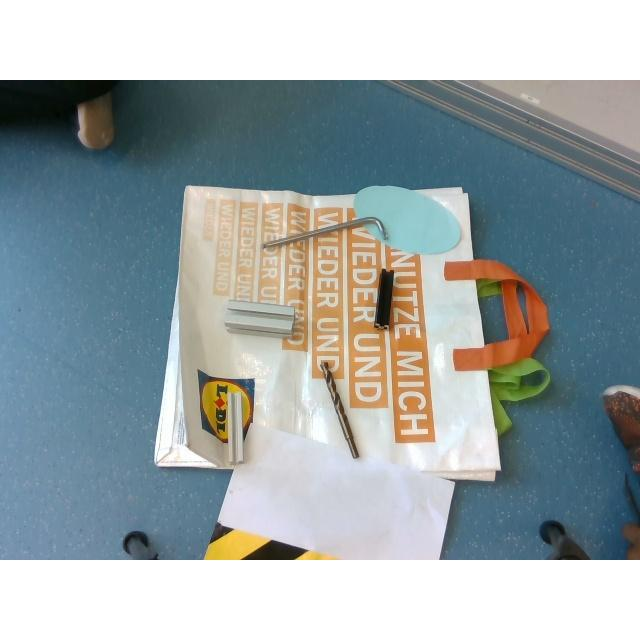AllenKey: (260, 216, 388, 248)
Drill: (320, 362, 358, 458)
F20_20_B: (374, 268, 394, 328)
F20_20_G: (225, 390, 242, 466)
S40_40_G: (226, 301, 294, 337)
